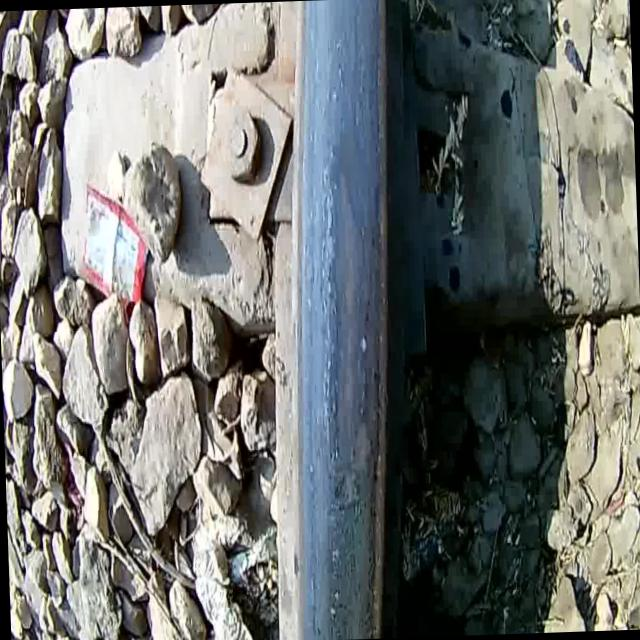Squats: (256, 0, 431, 640)
